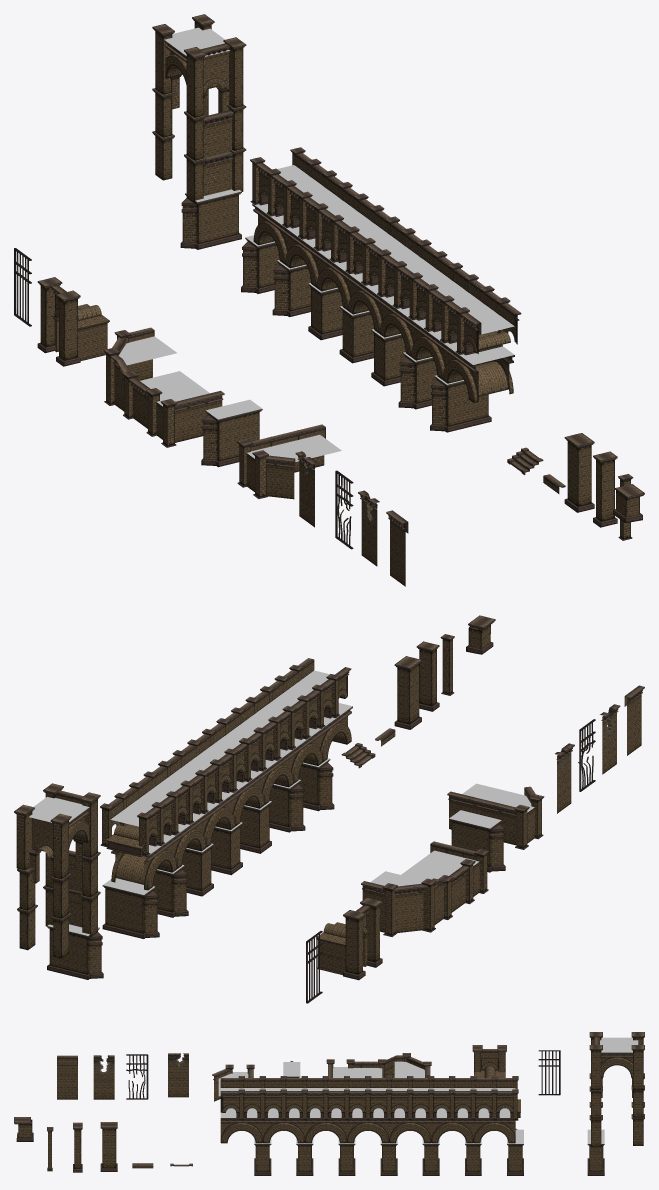
The model's file is EnvMdrMD_Sea_Aqueduct_A_Gate.FBX.
3 views of the same model, one above another, from view 1: azimuth 30°, elevation 25°; view 2: azimuth 150°, elevation 25°; view 3: azimuth 270°, elevation 25° (orthographic). The views are drawn at different scales.
Parts seen in each view (by area): view 1: EnvMdrMD_Sea_Aqueduct_B, EnvMdrMD_Sea_Aqueduct_A_Tower_A, EnvMdrMD_Sea_Aqueduct_A_Step_B, EnvMdrMD_Sea_Aqueduct_A_Step_A, EnvMdrMD_Sea_Aqueduct_A_Sluice_A, EnvMdrMD_Sea_Aqueduct_A_Piller_A, EnvMdrMD_Sea_Aqueduct_A_Piller_B, EnvMdrMD_Sea_Aqueduct_A_Piller_D, EnvMdrMD_Sea_Aqueduct_A_Wall_Break_B, EnvMdrMD_Sea_Aqueduct_A_Wall_A, EnvMdrMD_Sea_Aqueduct_A_Wall_Break_A, EnvMdrMD_Sea_Aqueduct_A_Gate (+2 smaller); view 2: EnvMdrMD_Sea_Aqueduct_B, EnvMdrMD_Sea_Aqueduct_A_Tower_A, EnvMdrMD_Sea_Aqueduct_A_Step_B, EnvMdrMD_Sea_Aqueduct_A_Sluice_A, EnvMdrMD_Sea_Aqueduct_A_Step_A, EnvMdrMD_Sea_Aqueduct_A_Piller_A, EnvMdrMD_Sea_Aqueduct_A_Piller_B, EnvMdrMD_Sea_Aqueduct_A_Piller_D, EnvMdrMD_Sea_Aqueduct_A_Wall_A, EnvMdrMD_Sea_Aqueduct_A_Wall_Break_B, EnvMdrMD_Sea_Aqueduct_A_Wall_Break_A, EnvMdrMD_Sea_Aqueduct_A_Piller_B_Short (+3 smaller); view 3: EnvMdrMD_Sea_Aqueduct_B, EnvMdrMD_Sea_Aqueduct_A_Tower_A, EnvMdrMD_Sea_Aqueduct_A_Step_B, EnvMdrMD_Sea_Aqueduct_A_Sluice_A, EnvMdrMD_Sea_Aqueduct_A_Wall_A, EnvMdrMD_Sea_Aqueduct_A_Wall_Break_B, EnvMdrMD_Sea_Aqueduct_A_Wall_Break_A, EnvMdrMD_Sea_Aqueduct_A_Piller_B, EnvMdrMD_Sea_Aqueduct_A_Gate, EnvMdrMD_Sea_Aqueduct_A_Gate_Break, EnvMdrMD_Sea_Aqueduct_A_Step_A, EnvMdrMD_Sea_Aqueduct_A_Piller_D (+2 smaller).
Boxes of the visible parts, box(x1,y1,x2,y2) form: EnvMdrMD_Sea_Aqueduct_B: box(241, 147, 521, 432); EnvMdrMD_Sea_Aqueduct_A_Tower_A: box(152, 14, 246, 249); EnvMdrMD_Sea_Aqueduct_A_Step_B: box(103, 327, 224, 447); EnvMdrMD_Sea_Aqueduct_A_Step_A: box(236, 424, 341, 499); EnvMdrMD_Sea_Aqueduct_A_Sluice_A: box(37, 277, 109, 366); EnvMdrMD_Sea_Aqueduct_A_Piller_A: box(201, 399, 262, 467); EnvMdrMD_Sea_Aqueduct_A_Piller_B: box(564, 433, 594, 512); EnvMdrMD_Sea_Aqueduct_A_Piller_D: box(593, 451, 617, 527); EnvMdrMD_Sea_Aqueduct_A_Wall_Break_B: box(358, 490, 379, 566); EnvMdrMD_Sea_Aqueduct_A_Wall_A: box(386, 510, 408, 586); EnvMdrMD_Sea_Aqueduct_A_Wall_Break_A: box(295, 451, 317, 527); EnvMdrMD_Sea_Aqueduct_A_Gate: box(14, 248, 31, 326); EnvMdrMD_Sea_Aqueduct_B: box(100, 658, 352, 938); EnvMdrMD_Sea_Aqueduct_A_Tower_A: box(14, 783, 103, 979); EnvMdrMD_Sea_Aqueduct_A_Step_B: box(361, 841, 489, 936); EnvMdrMD_Sea_Aqueduct_A_Sluice_A: box(316, 897, 382, 980); EnvMdrMD_Sea_Aqueduct_A_Step_A: box(447, 783, 544, 849); EnvMdrMD_Sea_Aqueduct_A_Piller_A: box(449, 810, 505, 872); EnvMdrMD_Sea_Aqueduct_A_Piller_B: box(394, 656, 421, 729); EnvMdrMD_Sea_Aqueduct_A_Piller_D: box(416, 641, 439, 711); EnvMdrMD_Sea_Aqueduct_A_Wall_A: box(624, 685, 644, 755); EnvMdrMD_Sea_Aqueduct_A_Wall_Break_B: box(600, 704, 620, 774); EnvMdrMD_Sea_Aqueduct_A_Wall_Break_A: box(555, 743, 574, 813); EnvMdrMD_Sea_Aqueduct_A_Piller_B_Short: box(466, 615, 495, 654); EnvMdrMD_Sea_Aqueduct_B: box(220, 1076, 523, 1175); EnvMdrMD_Sea_Aqueduct_A_Tower_A: box(587, 1032, 644, 1175); EnvMdrMD_Sea_Aqueduct_A_Step_B: box(326, 1053, 431, 1077); EnvMdrMD_Sea_Aqueduct_A_Sluice_A: box(472, 1045, 506, 1077); EnvMdrMD_Sea_Aqueduct_A_Wall_A: box(57, 1055, 77, 1099); EnvMdrMD_Sea_Aqueduct_A_Wall_Break_B: box(93, 1055, 114, 1099); EnvMdrMD_Sea_Aqueduct_A_Wall_Break_A: box(168, 1053, 188, 1097); EnvMdrMD_Sea_Aqueduct_A_Piller_B: box(100, 1122, 117, 1171); EnvMdrMD_Sea_Aqueduct_A_Gate: box(538, 1050, 560, 1095); EnvMdrMD_Sea_Aqueduct_A_Gate_Break: box(126, 1054, 148, 1099); EnvMdrMD_Sea_Aqueduct_A_Step_A: box(212, 1064, 254, 1101); EnvMdrMD_Sea_Aqueduct_A_Piller_D: box(73, 1122, 82, 1172).
Size of the model in its own units: 3052 by 2020 by 8987.
